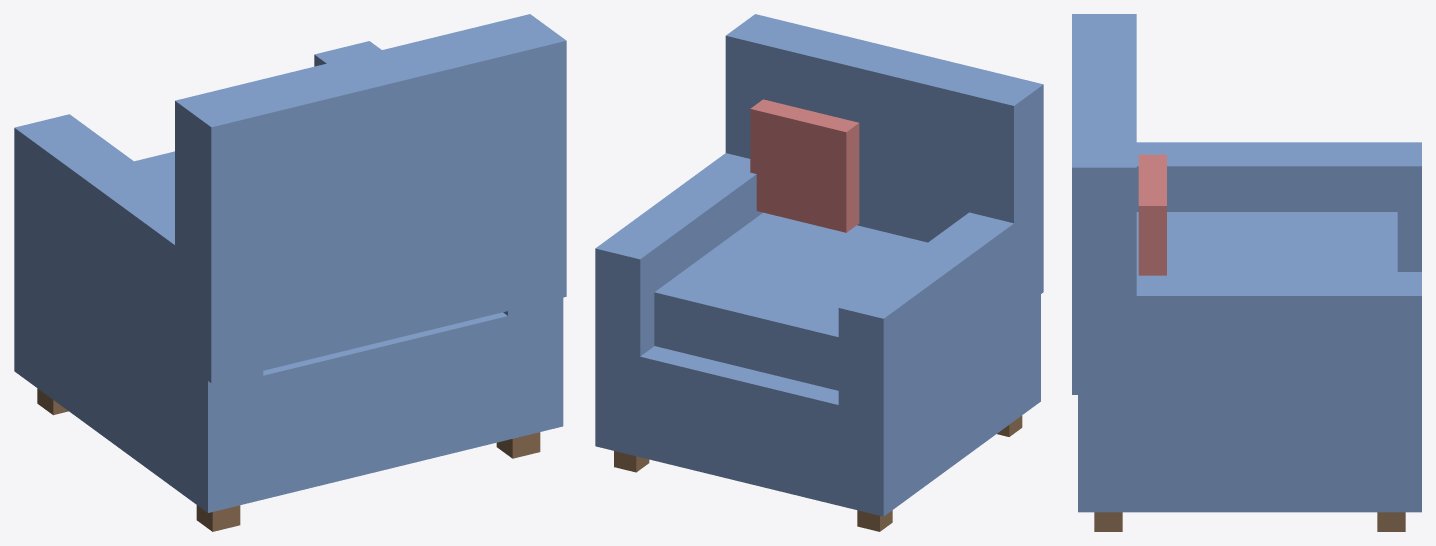
Rendered from armchair.glb.
3 renders of one model, left to right at view 1: azimuth 30°, elevation 25°; view 2: azimuth 150°, elevation 25°; view 3: azimuth 270°, elevation 25°, orthographic. The views are drawn at different scales.
Visible parts, largest first — view 1: armchair; view 2: armchair; view 3: armchair.
Part boxes in pixels (left/top/right/bottom): armchair: left=14, top=14, right=566, bottom=531; armchair: left=595, top=14, right=1043, bottom=531; armchair: left=1072, top=14, right=1421, bottom=531.
Size of the model in its own units: 0.9 by 1.01 by 0.865.
